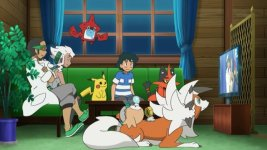pikachu: (81, 70, 107, 103)
